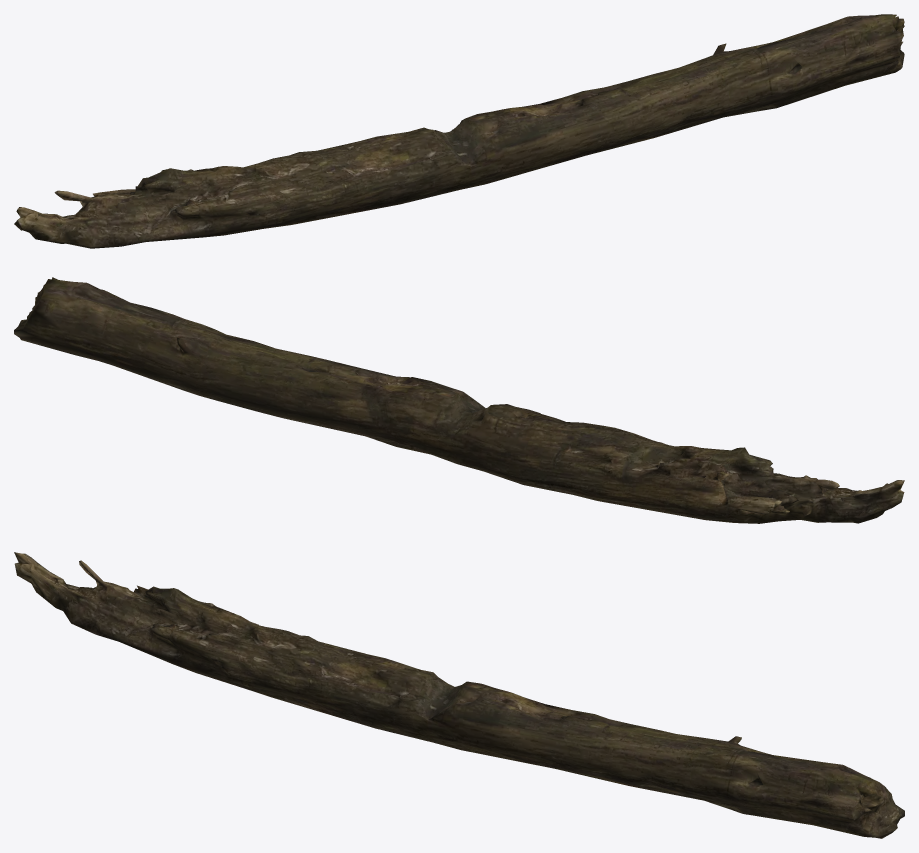
Rendered from logDead.glb.
3 renders of one model, top to bottom at view 1: azimuth 30°, elevation 25°; view 2: azimuth 150°, elevation 25°; view 3: azimuth 330°, elevation 25°, orthographic.
Visible parts, largest first — view 1: dead_tree_trunk; view 2: dead_tree_trunk; view 3: dead_tree_trunk.
Boxes of the visible parts, x1,y1,x2,y2 form: dead_tree_trunk: (14,14,904,248); dead_tree_trunk: (14,277,904,523); dead_tree_trunk: (14,552,904,838).
Bounding box in the file's own units: 3.05 × 0.287 × 0.2751.
1 material, 1 textured.
